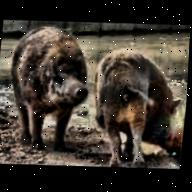boar: (85, 44, 187, 170), (2, 22, 94, 153)
